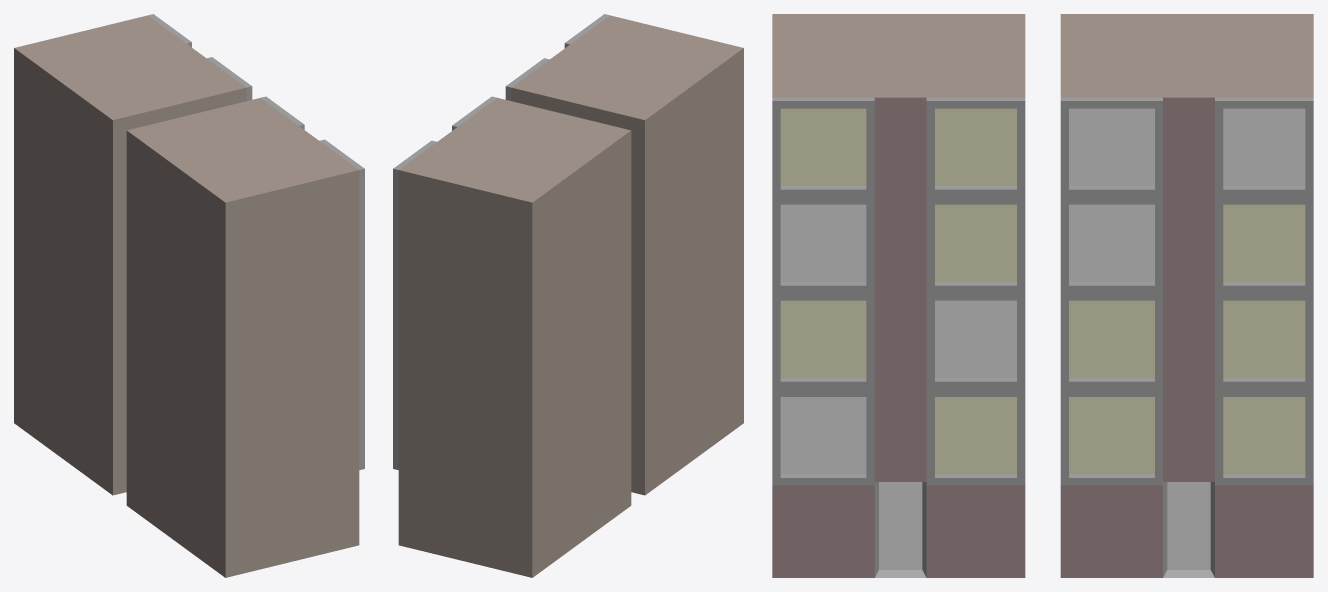
File: buldings.fbx
3 views of the same model, side by side, from view 1: azimuth 30°, elevation 25°; view 2: azimuth 150°, elevation 25°; view 3: azimuth 270°, elevation 25° (orthographic). The views are drawn at different scales.
Parts seen in each view (by area): view 1: pCube1, pCube2; view 2: pCube2, pCube1; view 3: pCube1, pCube2.
Boxes of the visible parts, x1,y1,x2,y2 form: pCube1: [126, 96, 364, 577]; pCube2: [14, 14, 252, 495]; pCube2: [393, 96, 631, 577]; pCube1: [505, 14, 743, 495]; pCube1: [772, 14, 1025, 577]; pCube2: [1060, 14, 1313, 577].
Bounding box in the file's own units: 9.92 × 25.54 × 26.07.
